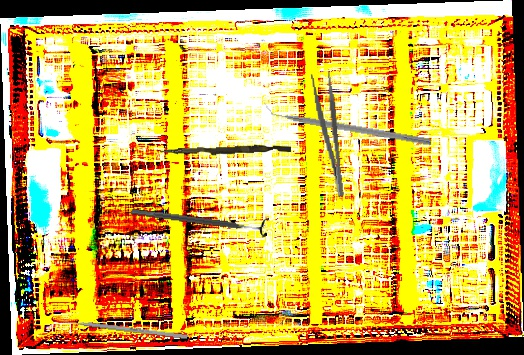Chopper: (261, 100, 434, 146)
Dressing Forceps: (309, 71, 348, 199)
Fixation Ring: (130, 200, 269, 239)
Pusher: (53, 317, 188, 340), (159, 142, 292, 159)
